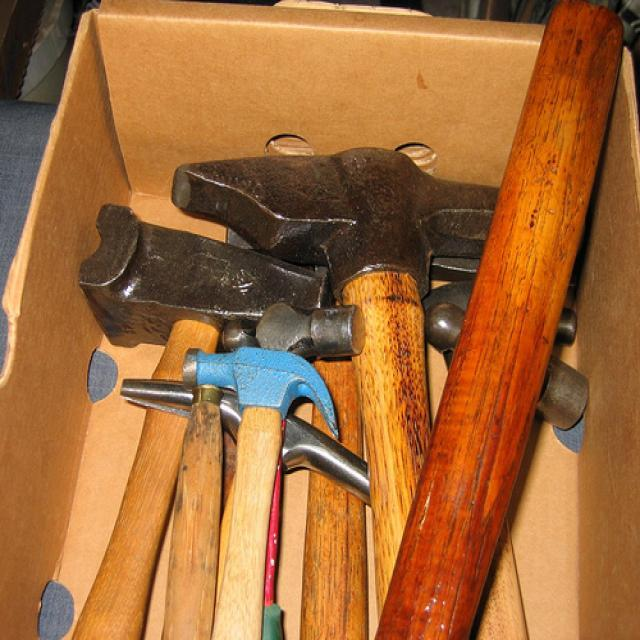hammer: (159, 127, 535, 296), (173, 342, 324, 635), (79, 190, 320, 333), (212, 302, 370, 362)
